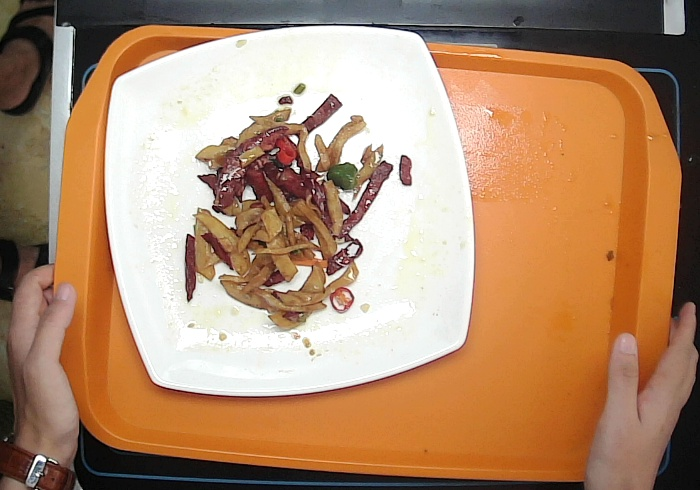ZNLD-Bai_Fang_Pan: (96, 23, 482, 392)
